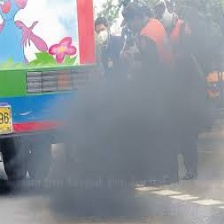smoke: (73, 79, 180, 212)
